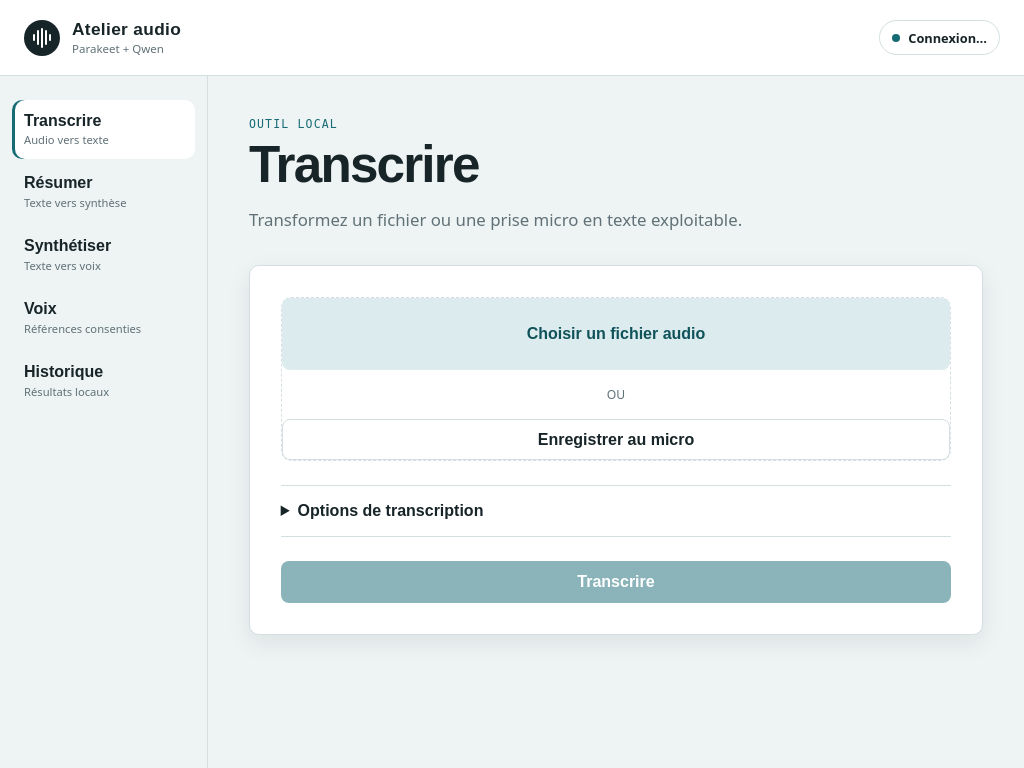
Test: App › suit une ancre sans requête serveur
Click the link "Voix Références consenties" at (83, 318), box [24,300,141,336]
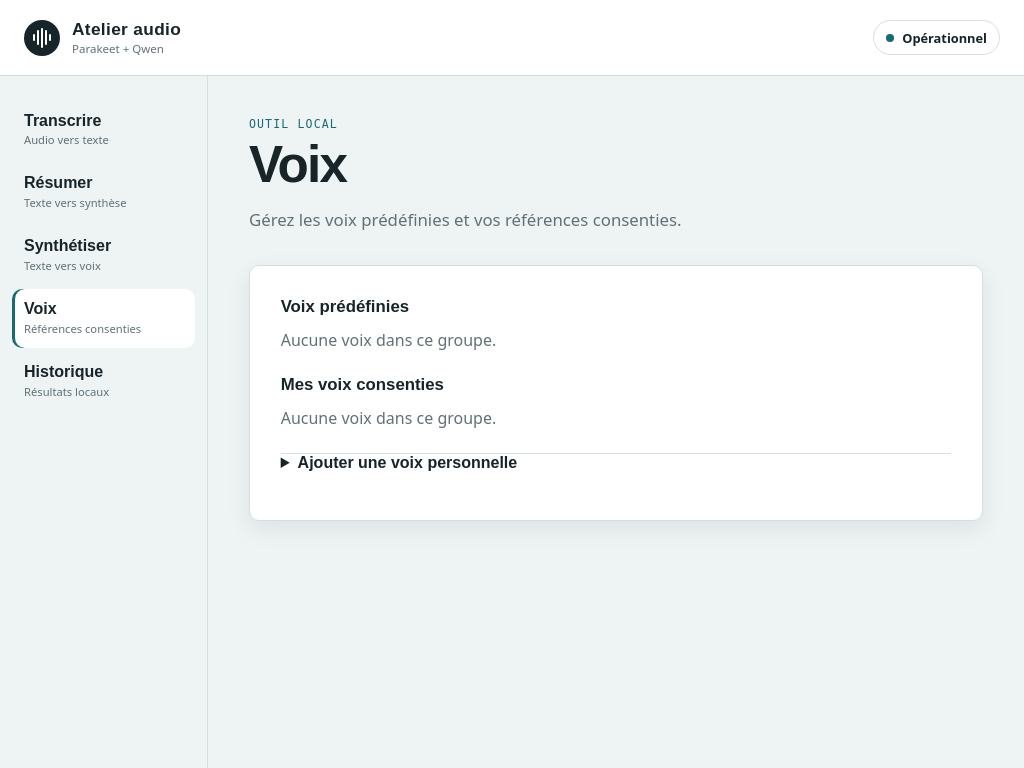
Expected: the heading "Voix" is shown, [249,136,346,193]
